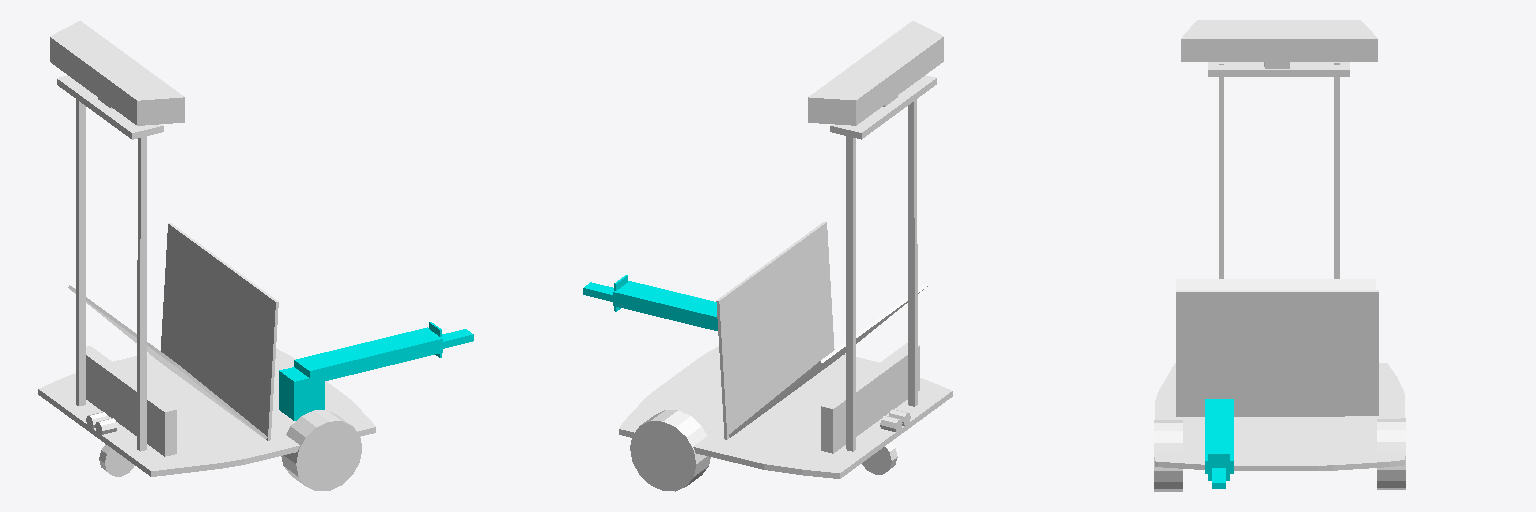
The robot description file, URDF, robot "robik":
<!-- (x -!dopredu +!dozadu) (y -levo +vpravo) (z -dolu +nahoru) -->
<robot name="robik">

	<link name="base_link">
		<visual>
			<origin xyz="0 0 0.06" rpy="1.57 0 -1.57" />
			<geometry>
				<mesh filename="package://robik/model/robot_model_v2.dae"
					scale="1.0 1.0 1.0" />
			</geometry>
			<material name="clear">
				<color rgba="1 1 1 1" />
			</material>
		</visual>
	</link>

	<joint name="laser_joint" type="fixed">
		<parent link="base_link" />
		<child link="laser_link" />
		<origin xyz="-0.25 0 0.08" rpy="0 0 3.1415" />
	</joint>

	<link name="laser_link" />


	<link name="yaw_link">
		<visual>
			<geometry>
				<box size="0.045 0.04 0.06" />
			</geometry>
			<material name="Cyan">
				<color rgba="0 1.0 1.0 1.0" />
			</material>
		</visual>
	</link>

	<joint name="yaw_joint" type="revolute">
		<parent link="base_link" />
		<child link="yaw_link" />
		<origin xyz="0.02 -0.08 0.11" rpy="0 0 0" />
		<axis xyz="0 0 -1" />
		<limit lower="-1.8675023" upper="1.099557429" effort="1000" velocity="1" />
	</joint>


	<link name="shoulder_link">
		<visual>
			<origin xyz="0 0.0675 0" rpy="0 0 0"/>
			<geometry>
				<box size="0.04 0.135 0.02" />
			</geometry>
			<material name="Cyan">
				<color rgba="0 1.0 1.0 1.0" />
			</material>
		</visual>
	</link>

	<joint name="shoulder_joint" type="revolute">
		<parent link="yaw_link" />
		<child link="shoulder_link" />
		<origin xyz="0.0 0 0.03" rpy="0 0 -1.570796327" />
		<axis xyz="1 0 0" />
		<limit lower="0" upper="2.094395102" effort="1000" velocity="1" />
	</joint>


	<link name="elbow_link">
		<visual>
			<origin xyz="0 0.0325 0" rpy="0 0 0"/>
			<geometry>
				<box size="0.04 0.065 0.02" />
			</geometry>
			<material name="Cyan">
				<color rgba="0 1.0 1.0 1.0" />
			</material>
		</visual>
	</link>

	<joint name="elbow_joint" type="revolute">
		<parent link="shoulder_link" />
		<child link="elbow_link" />
		<origin xyz="0 0.135 0" rpy="0 0 0" />
		<axis xyz="1 0 0" />
		<limit lower="-1.919862177" upper="0.6981317008" effort="1000" velocity="1" />
	</joint>


	<link name="roll_link">
		<visual>
			<geometry>
				<box size="0.03 0.003 0.04" />
			</geometry>
			<material name="Cyan">
				<color rgba="0 1.0 1.0 1.0" />
			</material>
		</visual>
	</link>

	<joint name="roll_joint" type="revolute">
		<parent link="elbow_link" />
		<child link="roll_link" />
		<origin xyz="0 0.065 0" rpy="0 0 0" />
		<axis xyz="0 1 0" />
		<limit lower="-1.570796327" upper="1.570796327" effort="1000" velocity="1" />
	</joint>


	<link name="clamp_link">
		<visual>
			<origin xyz="0 0.025 0" rpy="0 0 0"/>
			<geometry>
				<box size="0.02 0.05 0.01" />
			</geometry>
			<material name="Cyan">
				<color rgba="0 1.0 1.0 1.0" />
			</material>
		</visual>
	</link>

	<joint name="clamp_joint" type="revolute">
		<parent link="roll_link" />
		<child link="clamp_link" />
		<origin xyz="0 0.001 -0.005" rpy="0 0 0" />
		<axis xyz="-1 0 0" />
		<limit lower="0" upper="0.6981317008" effort="1000" velocity="1" />
		<!--<mimic joint="clamp_joint" multiplier="-1" offset="0"/>-->
	</joint>

	<link name="left_wheel" />
	<link name="right_wheel" />

	<joint name="wheel_left_joint" type="continuous">
		<parent link="base_link"/>
		<child link="left_wheel"/>
	</joint>

	<joint name="wheel_right_joint" type="continuous">
		<parent link="base_link"/>
		<child link="right_wheel"/>
	</joint>

</robot>

--- Render facts (derived) ---
Views: 3 orthographic renders of the robot side by side, from view 1: azimuth 30°, elevation 25°; view 2: azimuth 150°, elevation 25°; view 3: azimuth 270°, elevation 25°.
Model robik with 9 links and 8 joints (5 revolute, 2 continuous, 1 fixed), rooted at base_link, posed all joints at 0.
Visible links, largest first — view 1: base_link, shoulder_link, yaw_link, elbow_link; view 2: base_link, shoulder_link, elbow_link; view 3: base_link, shoulder_link.
Link boxes in pixels (x1=…): base_link: x1=38, y1=21, x2=375, y2=490; shoulder_link: x1=294, y1=338, x2=399, y2=383; yaw_link: x1=279, y1=367, x2=324, y2=420; elbow_link: x1=385, y1=327, x2=442, y2=362; base_link: x1=619, y1=21, x2=952, y2=491; shoulder_link: x1=657, y1=291, x2=717, y2=330; elbow_link: x1=613, y1=281, x2=671, y2=316; base_link: x1=1154, y1=20, x2=1405, y2=491; shoulder_link: x1=1205, y1=399, x2=1233, y2=440.
Size in the robot's own frame: 0.5168 by 0.3474 by 0.5924 metres.
Meshes: 1 distinct files referenced, 1 mesh visuals loaded (1 Collada DAE).